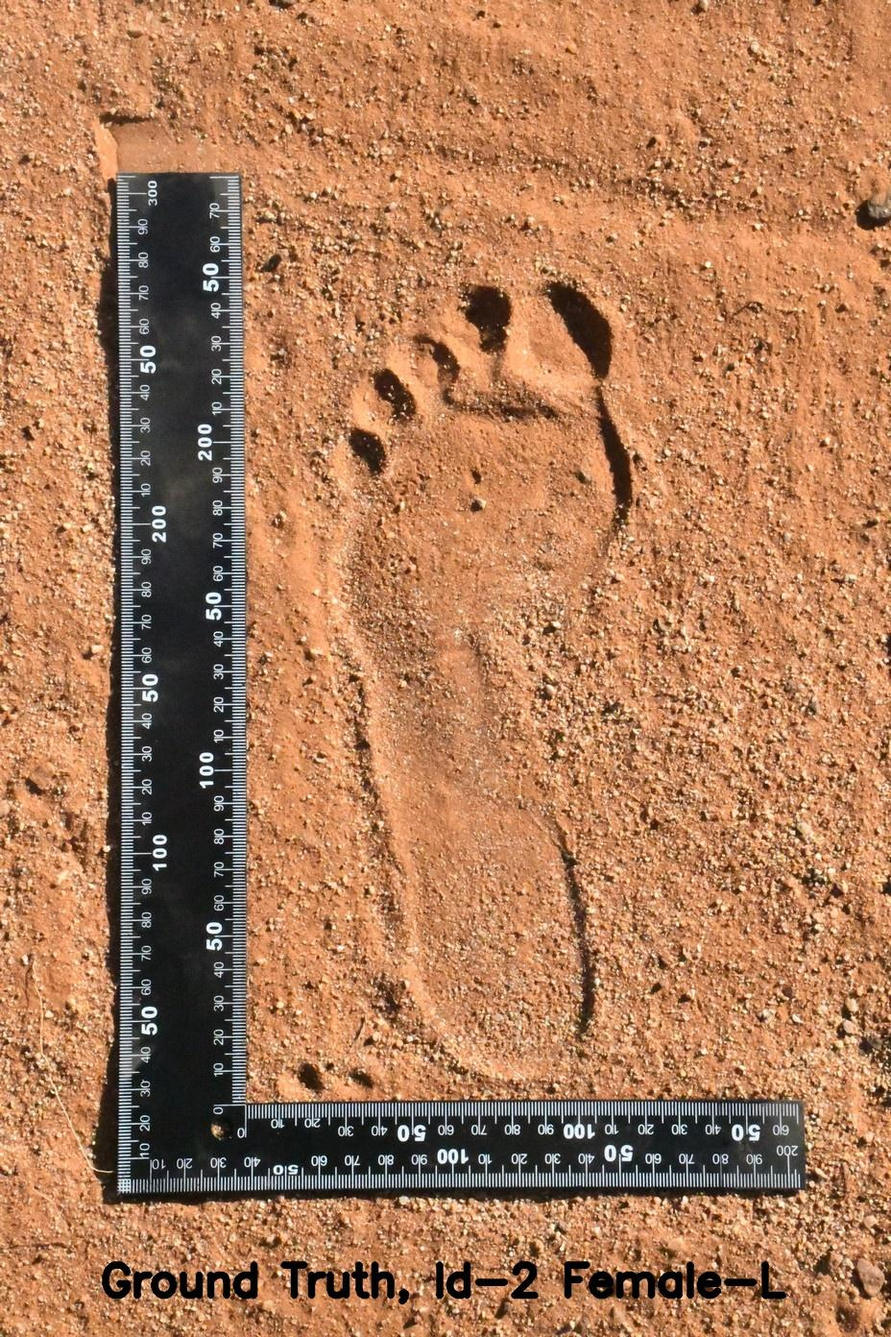human_foot_print: (298, 228, 670, 1094)
